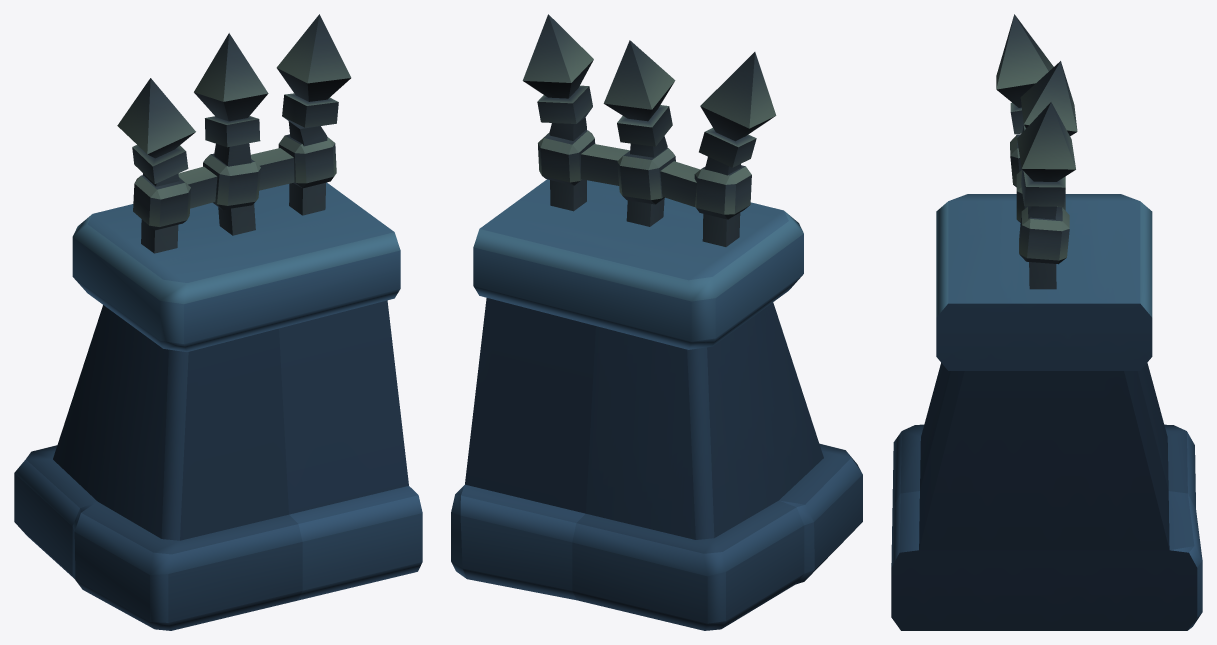
The model's file is wall_small_end.fbx.
3 views of the same model, side by side, from view 1: azimuth 30°, elevation 25°; view 2: azimuth 150°, elevation 25°; view 3: azimuth 270°, elevation 25° (orthographic).
Visible parts, largest first — view 1: wall_small_end; view 2: wall_small_end; view 3: wall_small_end.
Part boxes in pixels (bbox=[...]): wall_small_end: bbox=[14, 14, 422, 630]; wall_small_end: bbox=[451, 14, 862, 630]; wall_small_end: bbox=[891, 14, 1202, 630].
Size of the model in its own units: 116 by 204 by 111.
